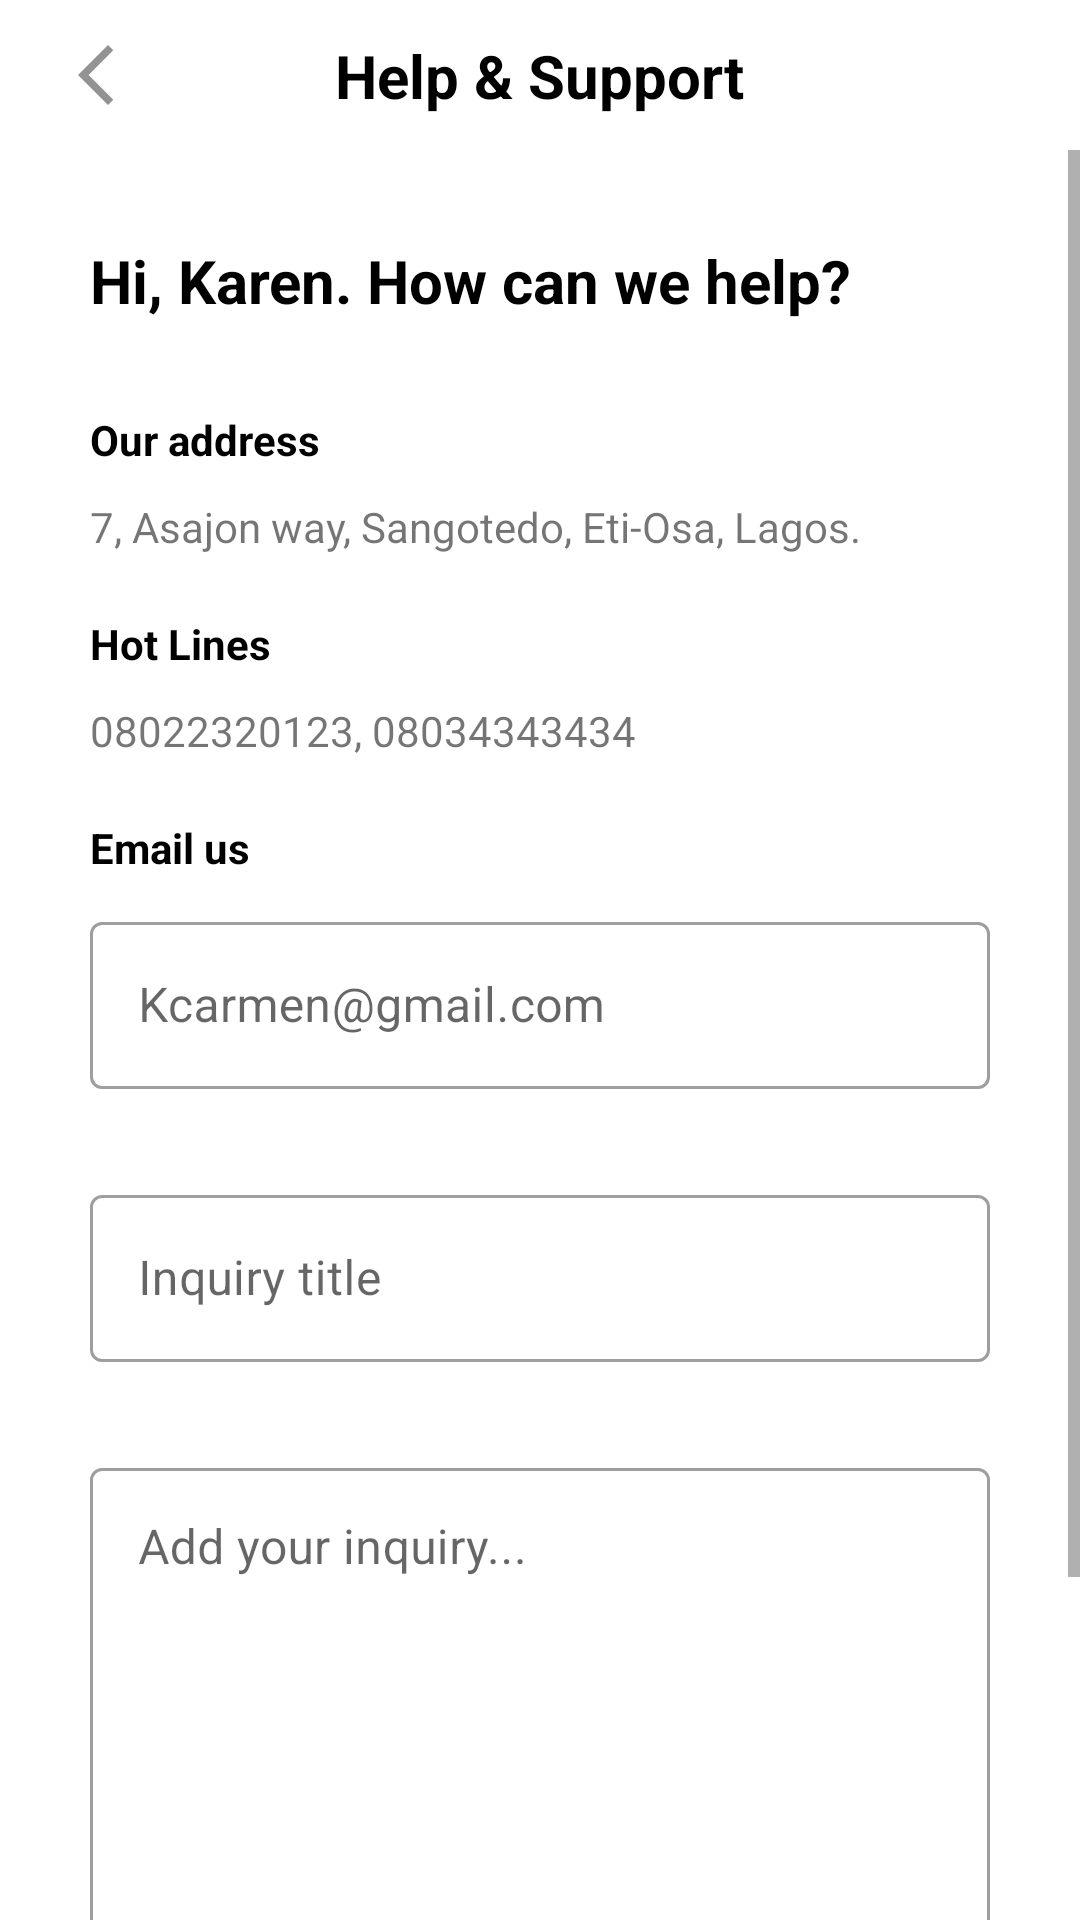

Named icons in this screenshot (1080w x 1920h) and their bounding boxes, detection(x1, y1, x2, y2):
backward: detection(78, 45, 113, 105)
